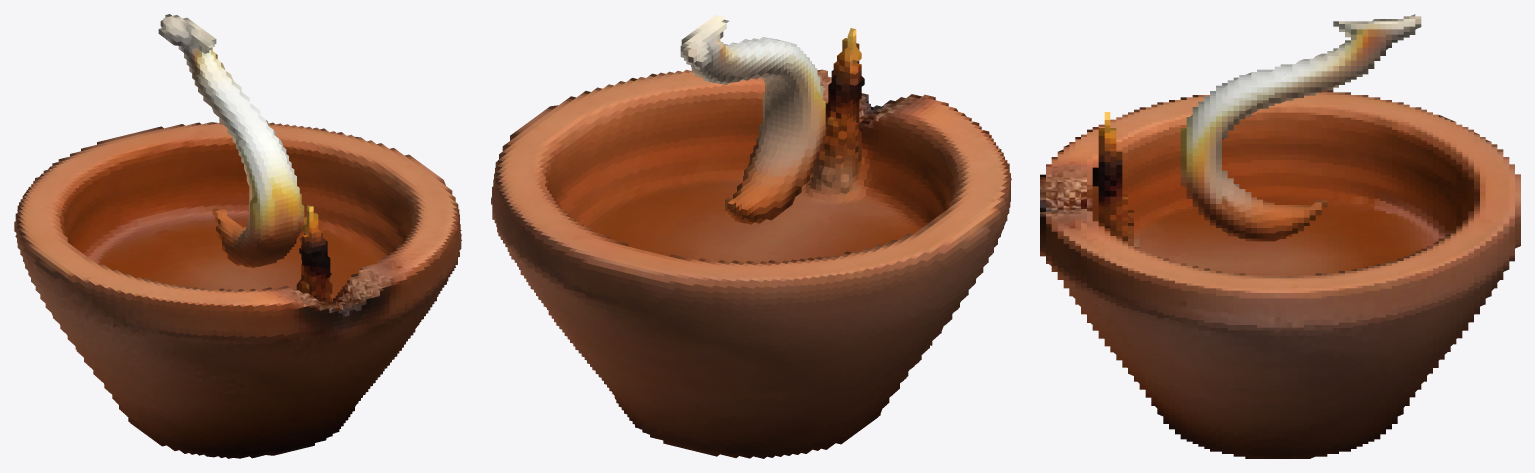
File: lamp.glb
3 renders of one model, left to right at view 1: azimuth 30°, elevation 25°; view 2: azimuth 150°, elevation 25°; view 3: azimuth 270°, elevation 25°, orthographic. The views are drawn at different scales.
Visible parts, largest first — view 1: tripo_node_7c6b4b98-8f6a-4bb2-89fd-6478e1d854ad; view 2: tripo_node_7c6b4b98-8f6a-4bb2-89fd-6478e1d854ad; view 3: tripo_node_7c6b4b98-8f6a-4bb2-89fd-6478e1d854ad.
Boxes of the visible parts, left/top/right/bottom form: tripo_node_7c6b4b98-8f6a-4bb2-89fd-6478e1d854ad: left=14, top=14, right=461, bottom=458; tripo_node_7c6b4b98-8f6a-4bb2-89fd-6478e1d854ad: left=491, top=14, right=1011, bottom=458; tripo_node_7c6b4b98-8f6a-4bb2-89fd-6478e1d854ad: left=1040, top=14, right=1520, bottom=458.
Size of the model in its own units: 0.9874 by 0.8581 by 0.9639.
1 material, 1 textured.
